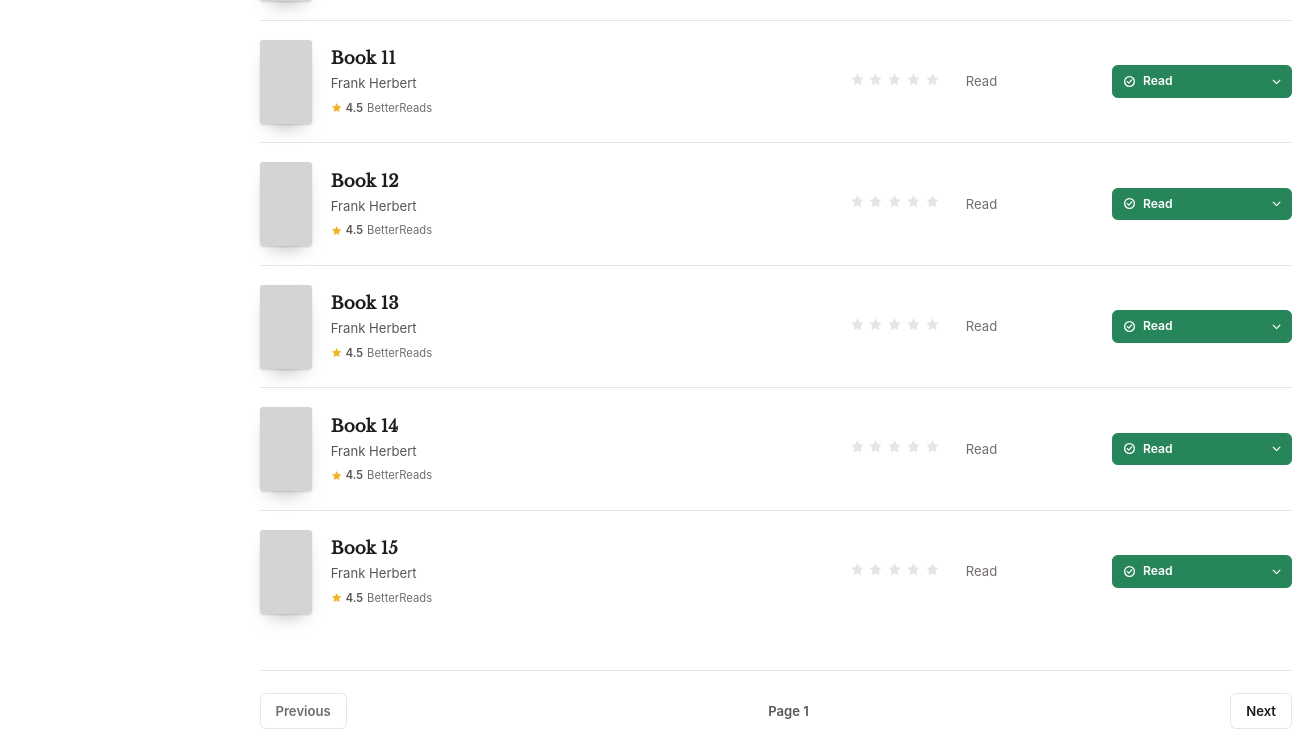
Test: ShelfList › should show the 16th book on the next page
The width and height of the screenshot is (1304, 729).
(page scrolled)
Expected: the link "Book 15" is shown, [331,538,398,559]
Expected: the link "Book 16" is not shown
Click the button "Next" at (1261, 711), box [1230,693,1292,728]
(page scrolled)
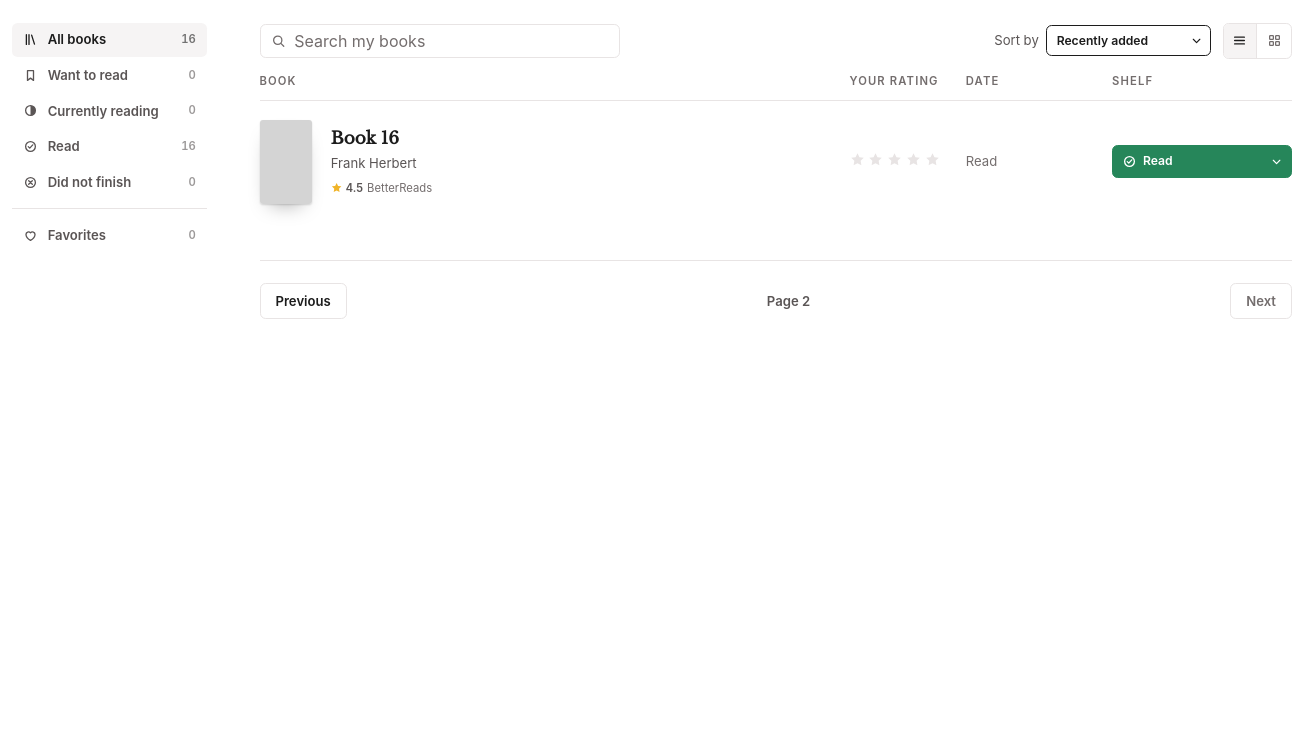
Result: the link "Book 16" is shown at [331,128,399,149]
Result: the button "Next" is disabled at [1230,283,1292,319]
Result: the button "Previous" is enabled at [260,283,347,319]
